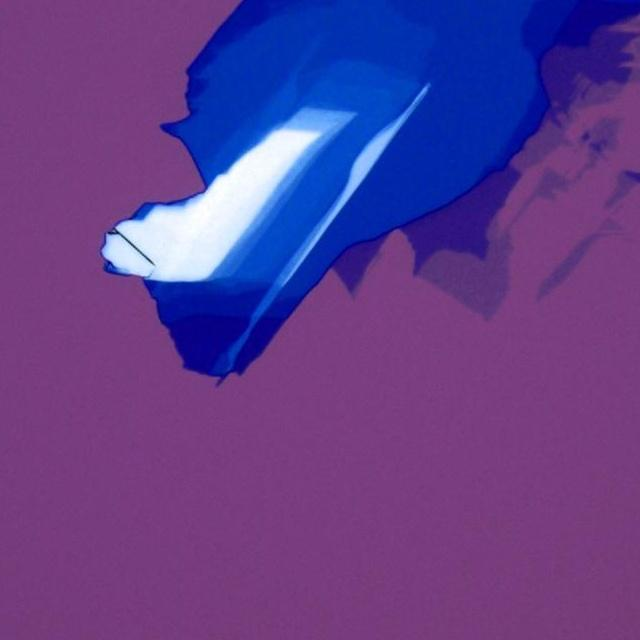monolayer-eWW4: (412, 219, 509, 323), (532, 227, 640, 304), (509, 120, 558, 172), (602, 172, 640, 210), (530, 166, 566, 203), (574, 76, 612, 110), (590, 117, 618, 149), (630, 68, 640, 86)
